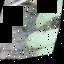Purslane: (0, 0, 64, 63)
